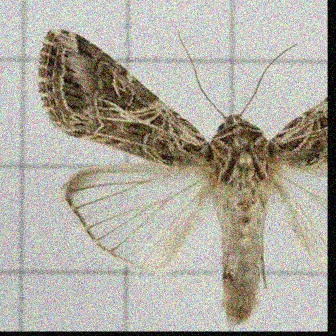Spodoptera litura: (35, 29, 326, 325)
